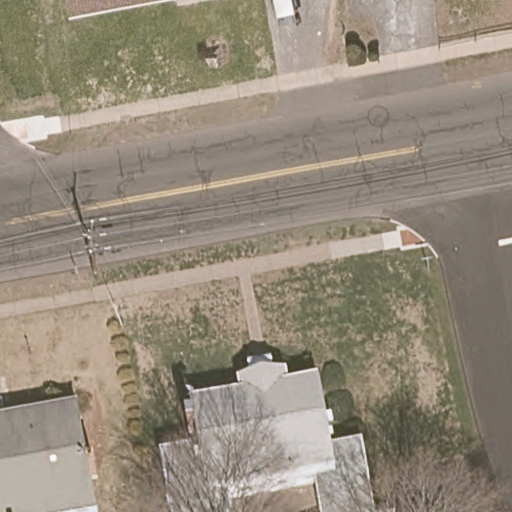DT: (70, 216, 119, 276)
